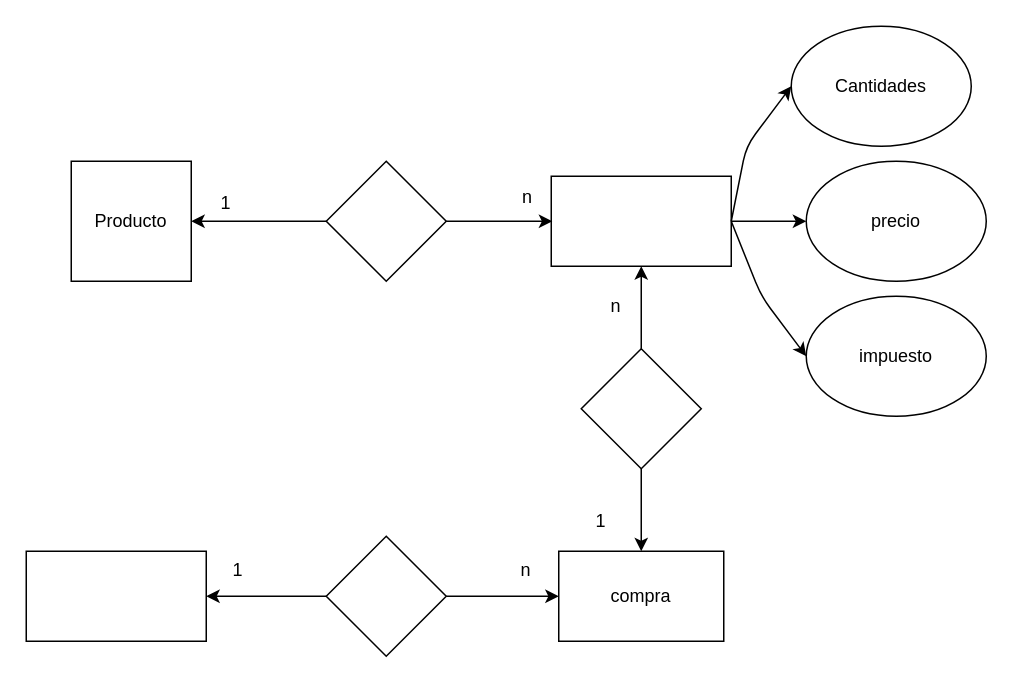
Image size: 1013x683. Some labels were removed from this diagram. Each missing label, with the centre of its shape:
"linea" goes at point (640, 220).
"usuario" goes at point (115, 595).
